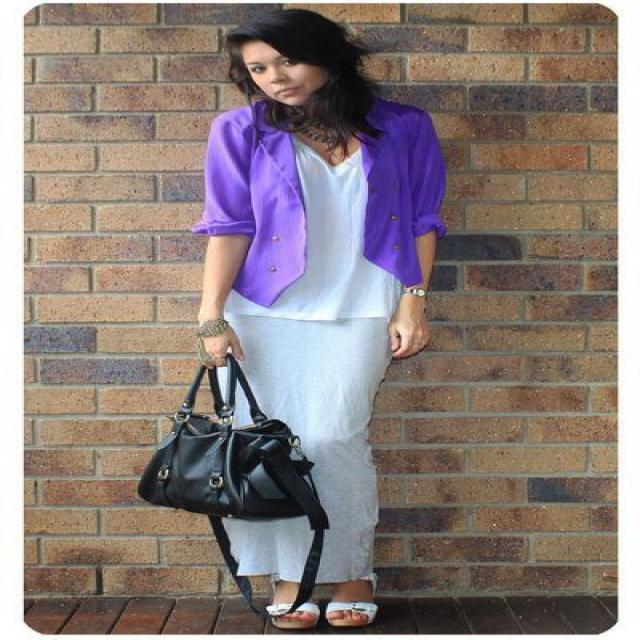bag: (138, 386, 334, 589)
jacket: (190, 95, 445, 307)
shirt: (224, 148, 394, 339)
shoe: (250, 587, 376, 639)
skirt: (211, 320, 389, 581)
